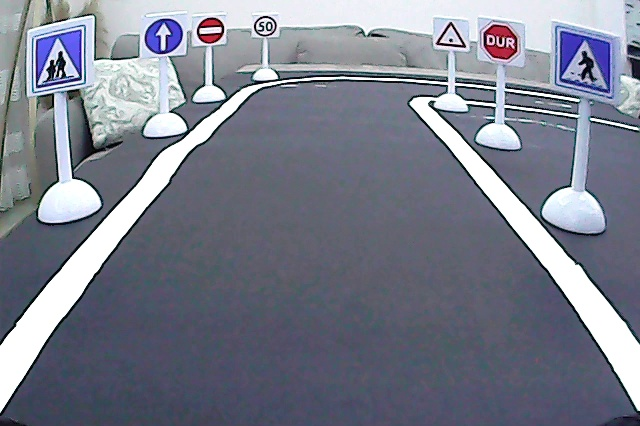do not enter: (196, 15, 227, 47)
green light: (434, 21, 468, 51)
pedestrian crossing: (553, 23, 616, 102)
school crossing: (29, 24, 89, 92)
speed limit 50: (253, 14, 279, 39)
stop sign: (478, 19, 521, 64)
